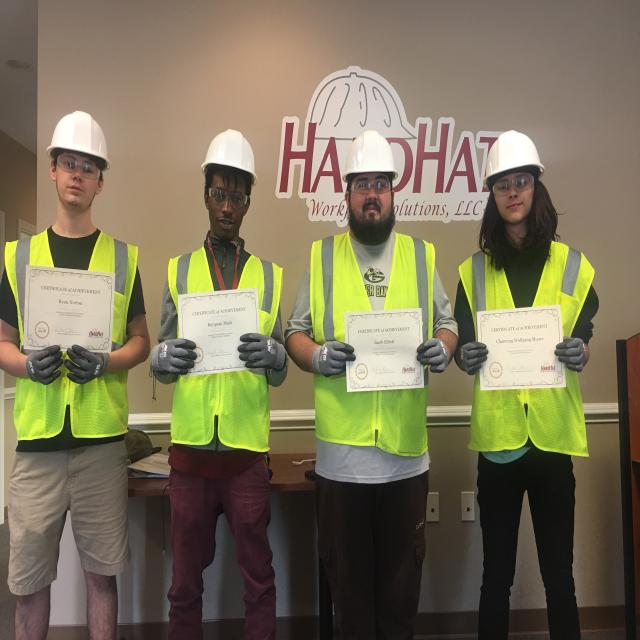Reflective-Jacket: (307, 232, 441, 463), (458, 243, 598, 459), (1, 232, 144, 443), (163, 248, 286, 459)
Safety-Helmet: (480, 124, 546, 188), (44, 106, 113, 167), (199, 124, 259, 183), (341, 123, 402, 180)
